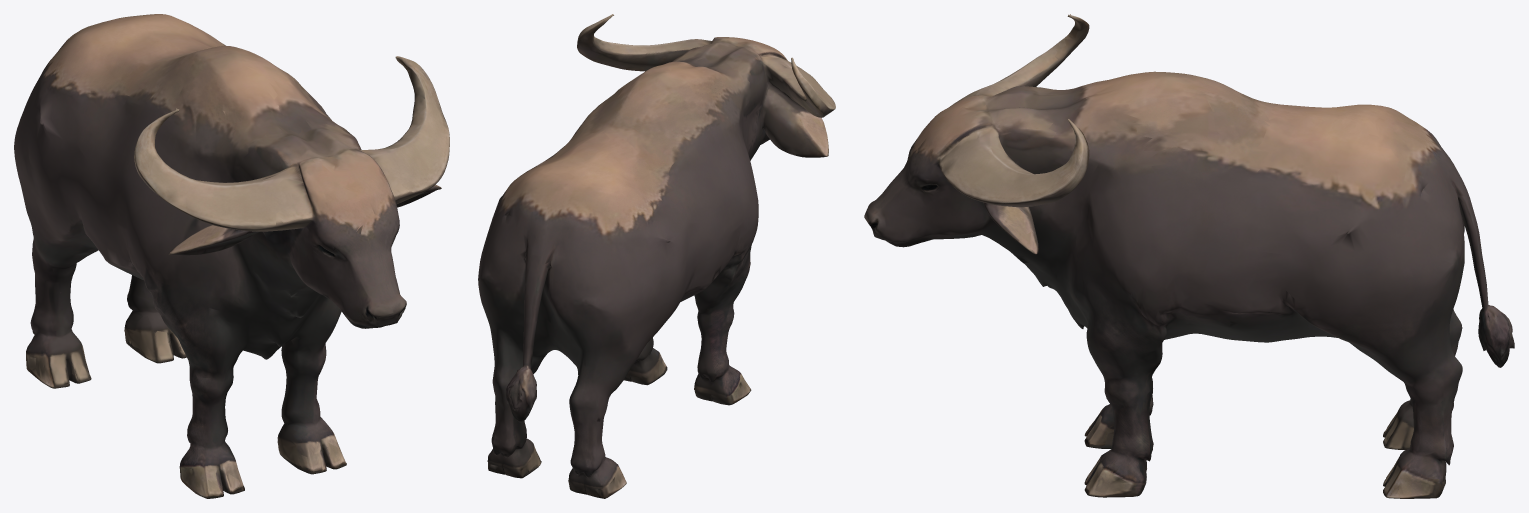
File: SM_Buffalo_BlenderOptimized.fbx
3 views of the same model, side by side, from view 1: azimuth 30°, elevation 25°; view 2: azimuth 150°, elevation 25°; view 3: azimuth 270°, elevation 25° (orthographic). The views are drawn at different scales.
Parts seen in each view (by area): view 1: tripo_node_572fab01-8241-4859-804c-f6bd5700e8af; view 2: tripo_node_572fab01-8241-4859-804c-f6bd5700e8af; view 3: tripo_node_572fab01-8241-4859-804c-f6bd5700e8af.
Part boxes in pixels (left/top/right/bottom): tripo_node_572fab01-8241-4859-804c-f6bd5700e8af: left=14, top=14, right=449, bottom=498; tripo_node_572fab01-8241-4859-804c-f6bd5700e8af: left=478, top=14, right=835, bottom=498; tripo_node_572fab01-8241-4859-804c-f6bd5700e8af: left=864, top=14, right=1514, bottom=498.
Bounding box in the file's own units: 0.5106 × 0.6666 × 0.9862.
